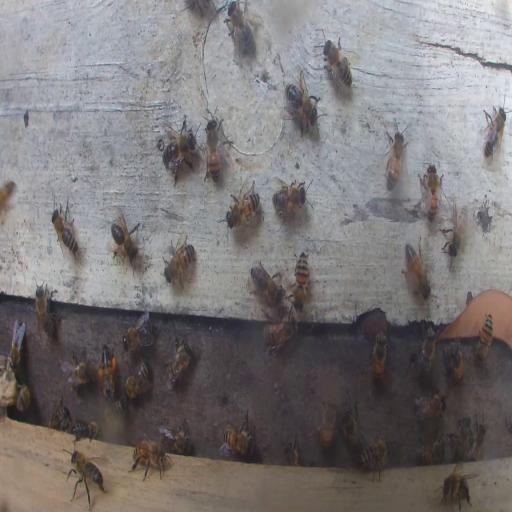bee: (283, 69, 323, 132), (158, 120, 199, 177), (67, 448, 105, 502), (321, 32, 355, 90), (110, 210, 142, 266), (164, 234, 196, 290), (445, 200, 473, 262), (225, 3, 255, 60), (480, 105, 508, 165), (129, 439, 169, 480), (437, 465, 473, 510), (164, 333, 193, 388), (418, 162, 444, 220), (384, 123, 406, 191), (249, 262, 283, 306), (264, 311, 298, 355), (404, 242, 430, 299), (51, 202, 78, 256), (35, 280, 60, 338), (272, 178, 309, 216), (416, 321, 440, 378), (220, 418, 255, 457), (359, 437, 389, 482), (228, 187, 260, 227), (122, 313, 154, 352), (204, 116, 222, 184), (98, 344, 118, 404), (64, 352, 93, 390), (124, 359, 150, 400), (413, 391, 446, 422), (340, 402, 361, 450), (369, 332, 388, 384), (316, 400, 336, 449), (443, 342, 465, 384), (294, 250, 310, 307), (476, 314, 494, 362), (8, 318, 24, 370), (161, 424, 190, 452), (468, 420, 486, 462), (416, 440, 446, 464), (14, 380, 32, 413), (71, 419, 99, 440), (456, 417, 471, 456), (50, 399, 68, 431), (0, 177, 14, 218), (283, 438, 299, 467)
